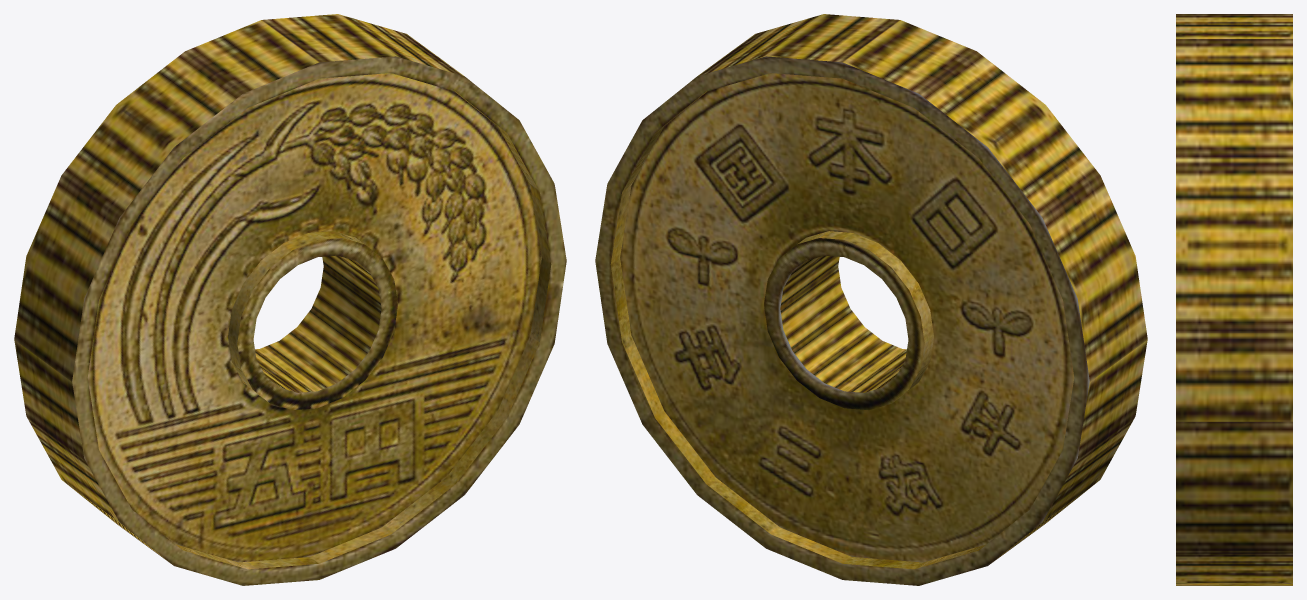
Rendered from Coin.fbx.
The picture shows the model from 3 angles, left to right: view 1: azimuth 30°, elevation 25°; view 2: azimuth 150°, elevation 25°; view 3: azimuth 270°, elevation 25°; orthographic projection.
Visible parts, largest first — view 1: 5yen 2.001, 5yen 1.001, 5yen 3.001, 5yen 4.001; view 2: 5yen 2.001, 5yen 1.001, 5yen 3.001, 5yen 4.001; view 3: 5yen 1.001.
Boxes of the visible parts, box(x1,y1,x2,y2) form: 5yen 2.001: box(72, 56, 566, 585); 5yen 1.001: box(14, 14, 463, 563); 5yen 3.001: box(255, 255, 381, 392); 5yen 4.001: box(176, 91, 551, 569); 5yen 2.001: box(595, 56, 1089, 585); 5yen 1.001: box(698, 14, 1147, 563); 5yen 3.001: box(780, 255, 906, 392); 5yen 4.001: box(610, 91, 985, 569); 5yen 1.001: box(1176, 14, 1292, 585).
Size of the model in its own units: 77.17 by 77.17 by 15.66.
1 material, 1 textured.
